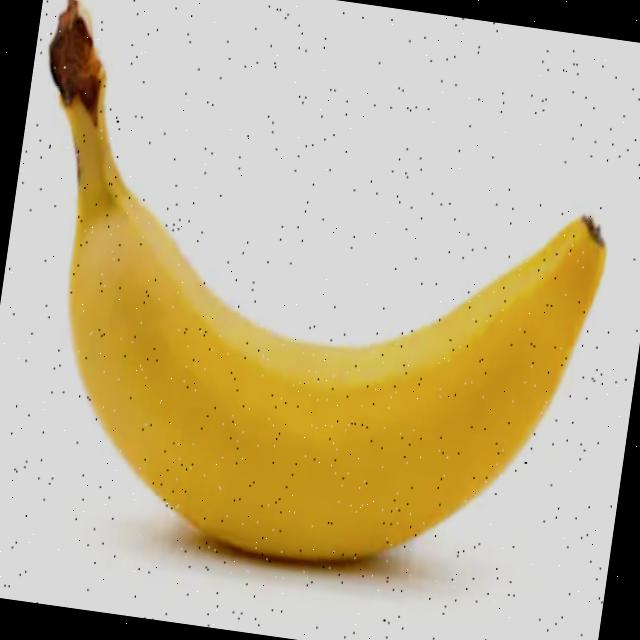Ripe: (3, 55, 624, 604)
